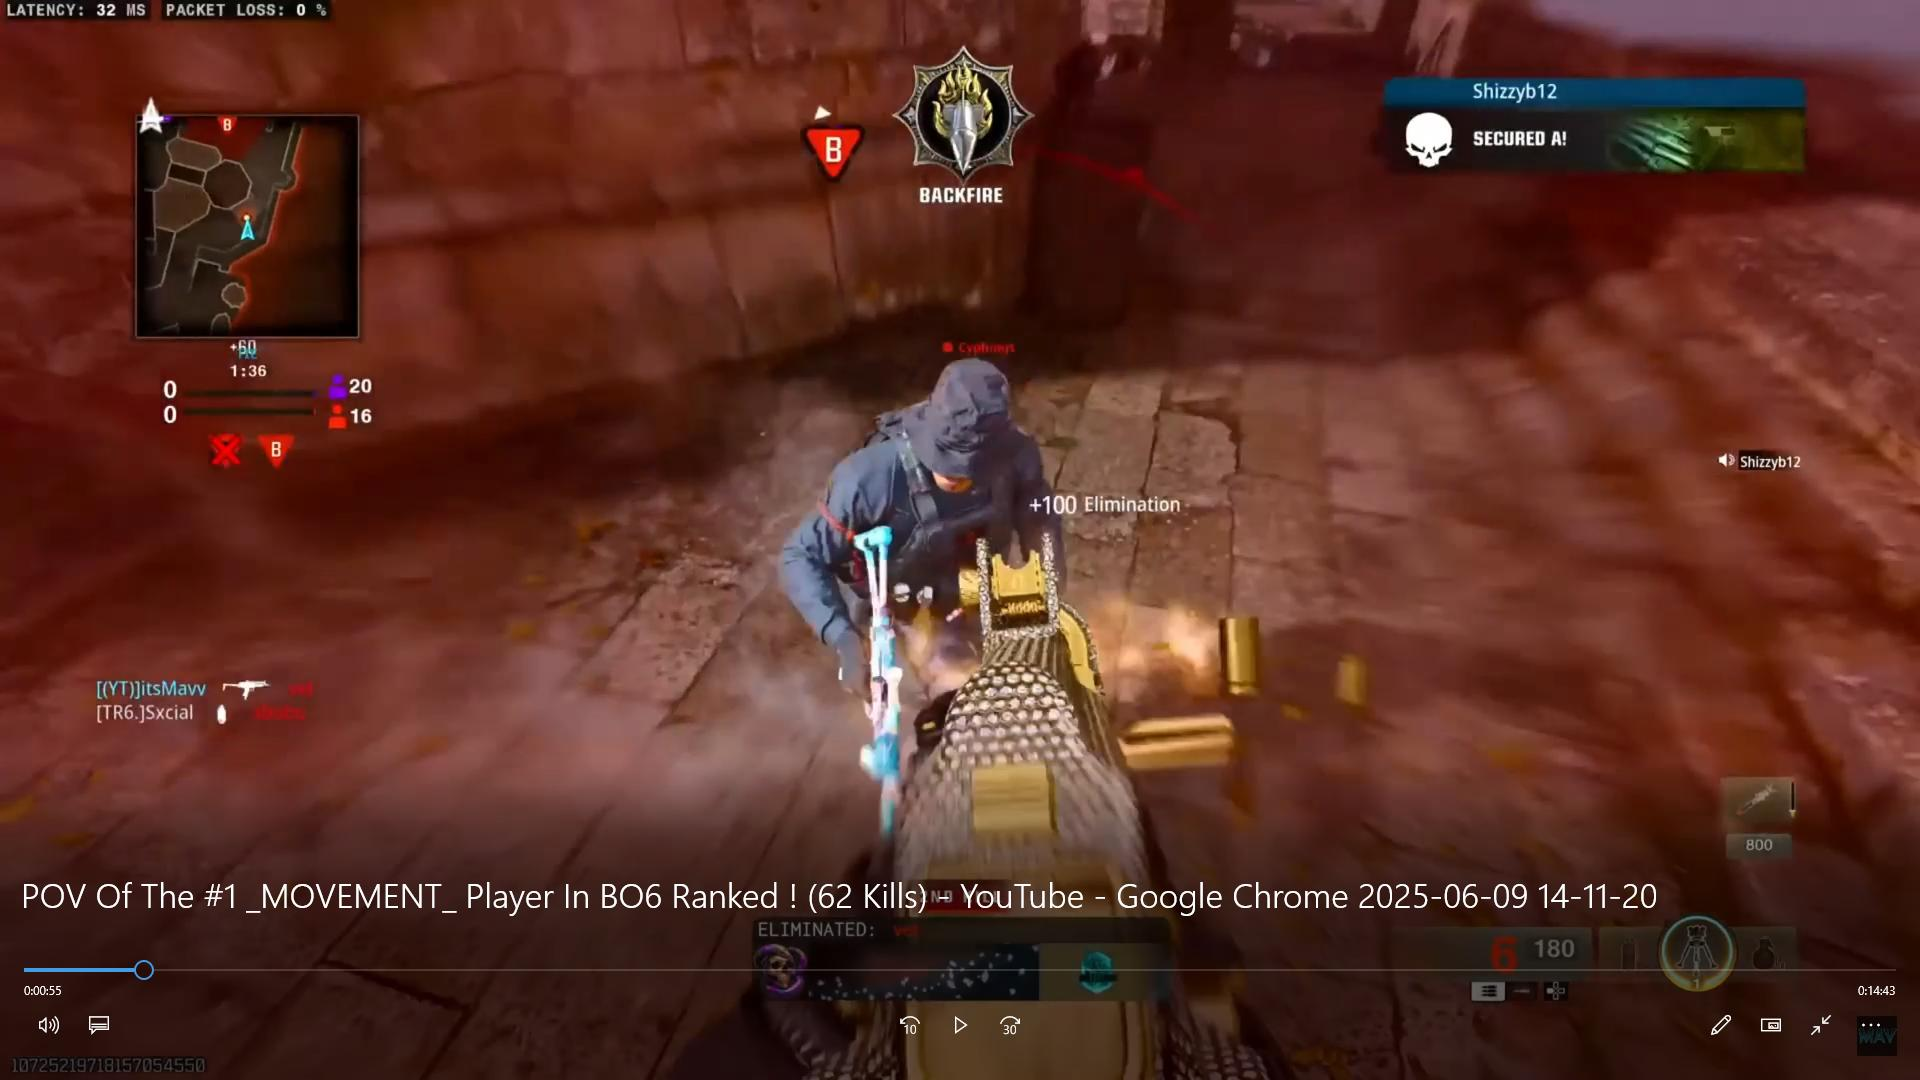Enemy: (795, 361, 1095, 550)
